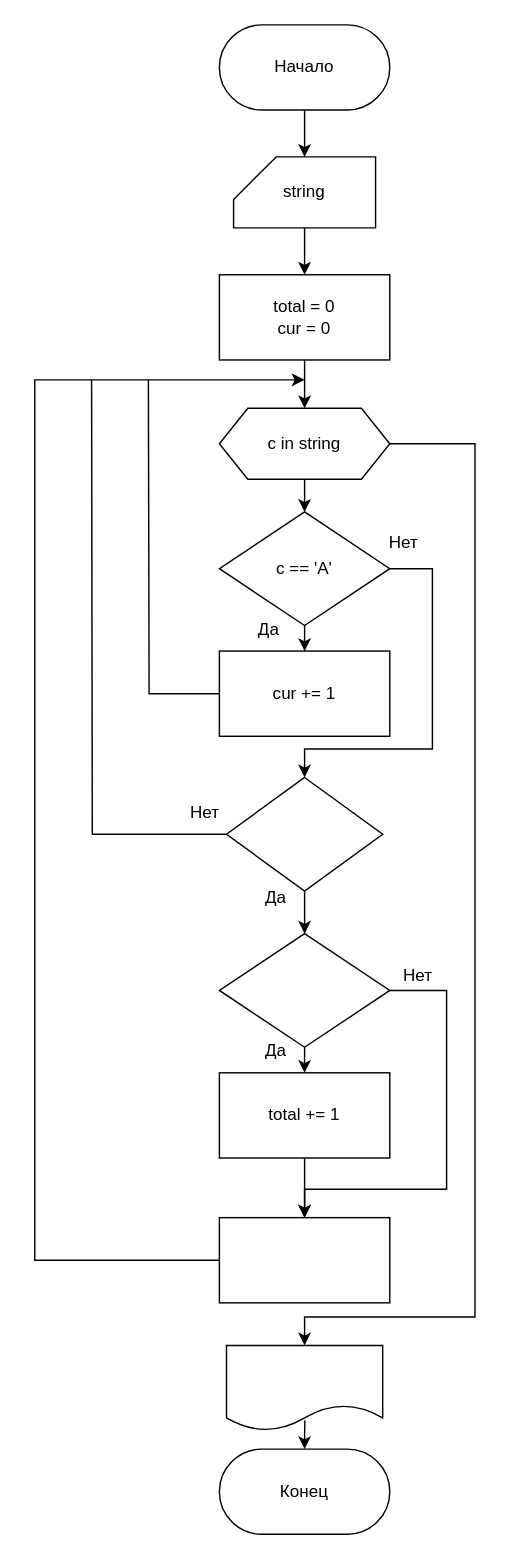
This 511x1559 diagram has some shape labels left out. The box of each missing label's shape, as (x1, y1, x2, y2) in pixels:
c == ' ': (225, 776, 383, 891)
cur = 0: (218, 1216, 390, 1303)
cur > 3: (218, 932, 390, 1047)
total: (225, 1344, 383, 1431)
